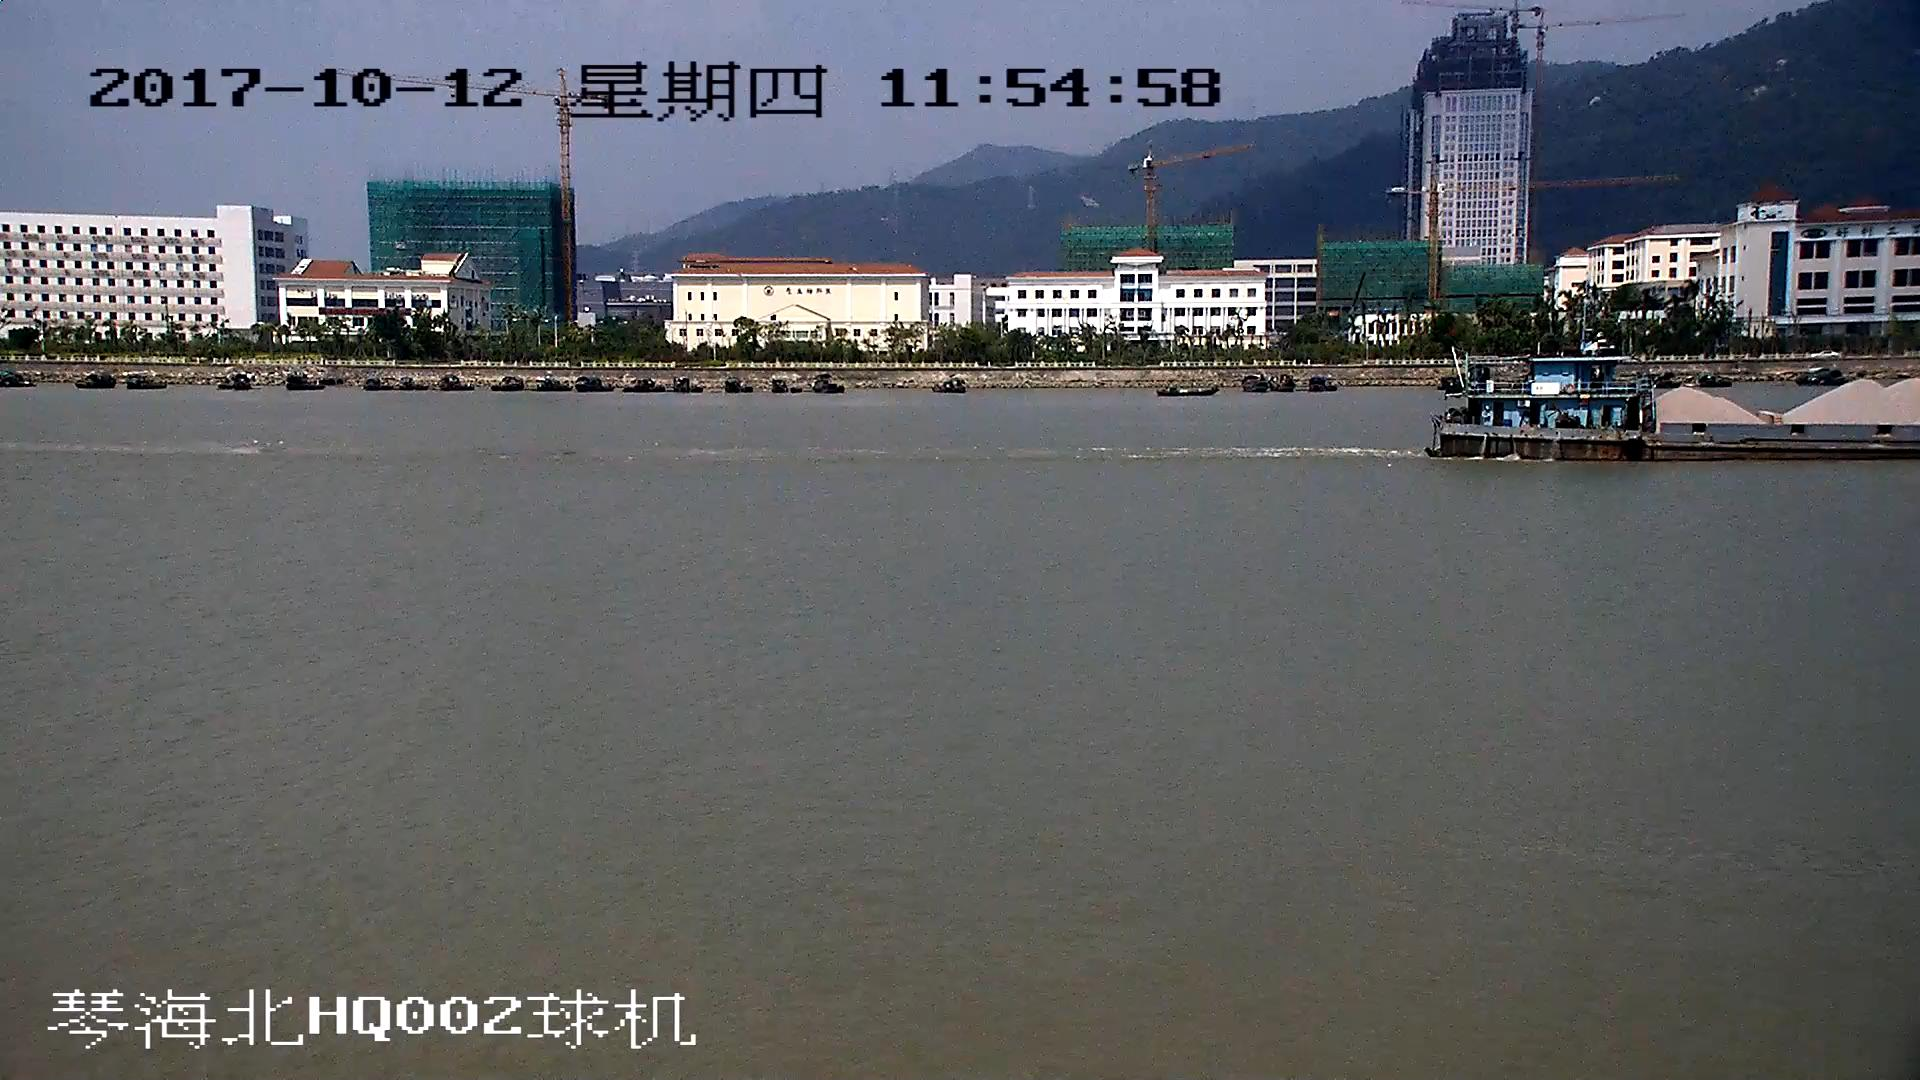ore carrier: (1438, 360, 1920, 464)
